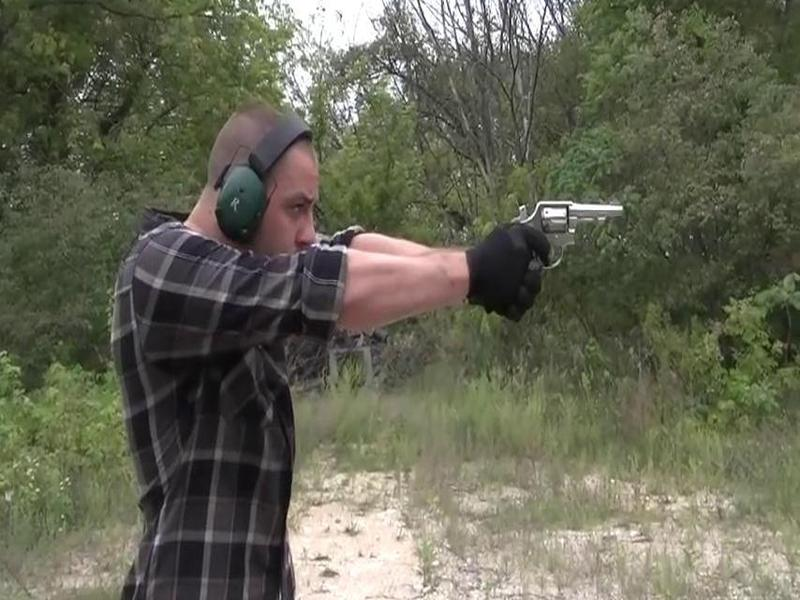Revolver: (497, 178, 642, 284)
